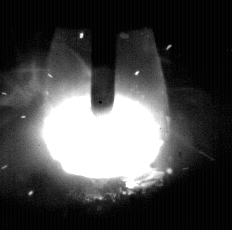arame: (91, 0, 116, 115)
poca: (42, 0, 172, 230)
